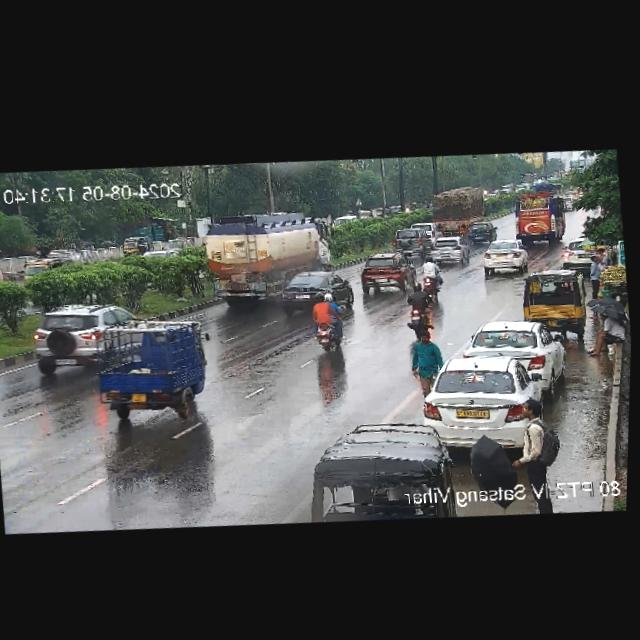bus: (516, 187, 568, 241)
car: (85, 309, 220, 428), (420, 347, 555, 460), (23, 297, 124, 386), (458, 315, 565, 392), (274, 261, 357, 321), (518, 267, 590, 335), (358, 252, 413, 296), (18, 249, 78, 285), (475, 239, 527, 277), (389, 226, 429, 254), (431, 236, 464, 262), (466, 220, 497, 245)
motorcycle: (307, 288, 348, 359), (407, 281, 431, 331), (418, 254, 445, 297)
person: (509, 391, 562, 477), (584, 306, 627, 362), (408, 330, 442, 390), (582, 250, 611, 294)
truck: (197, 202, 337, 317), (432, 183, 485, 237)
